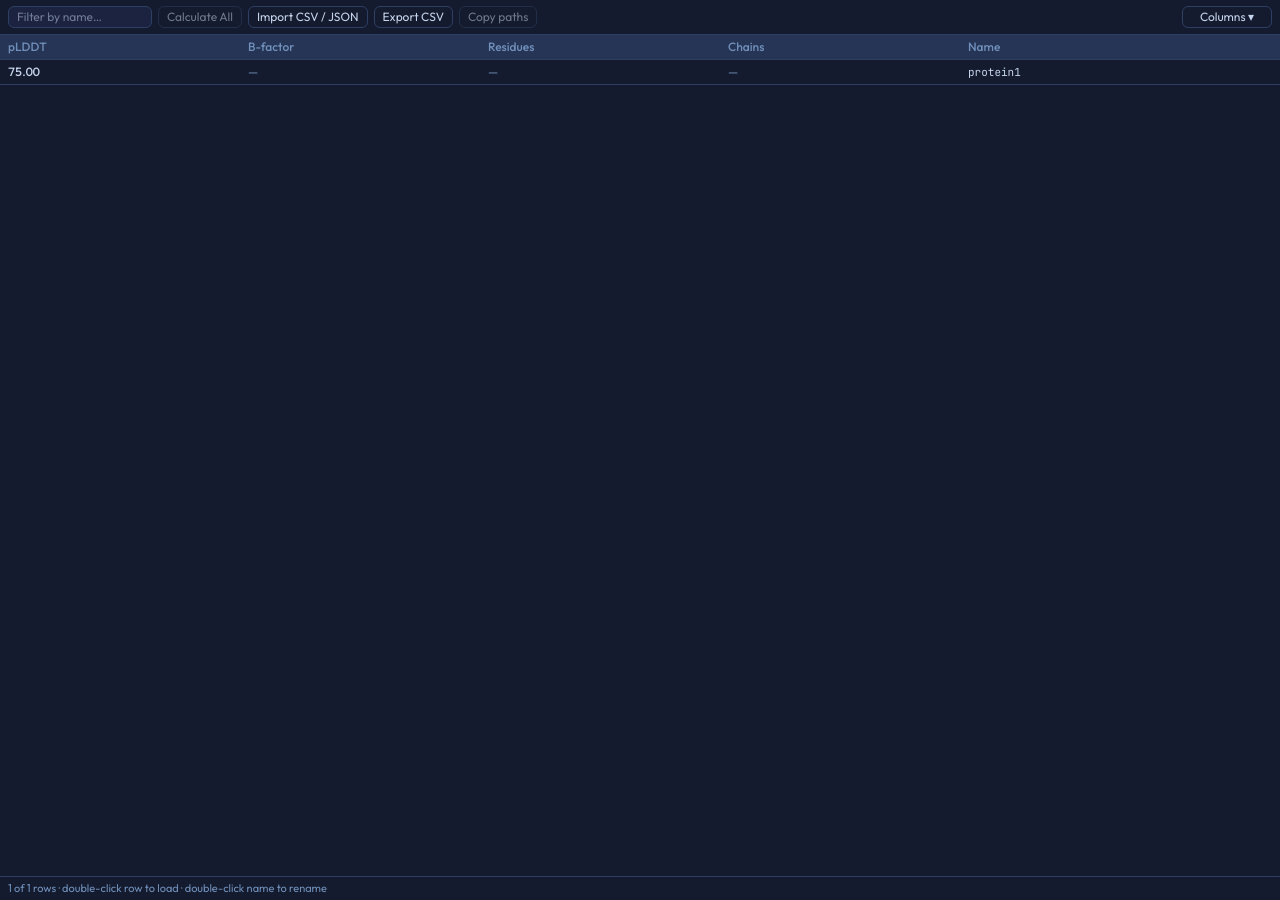
Scenario: MetricsTable › column visibility › opens the columns dropdown on click
Click the button "Columns ▾".
click(1227, 17)  # box [1182, 6, 1272, 28]
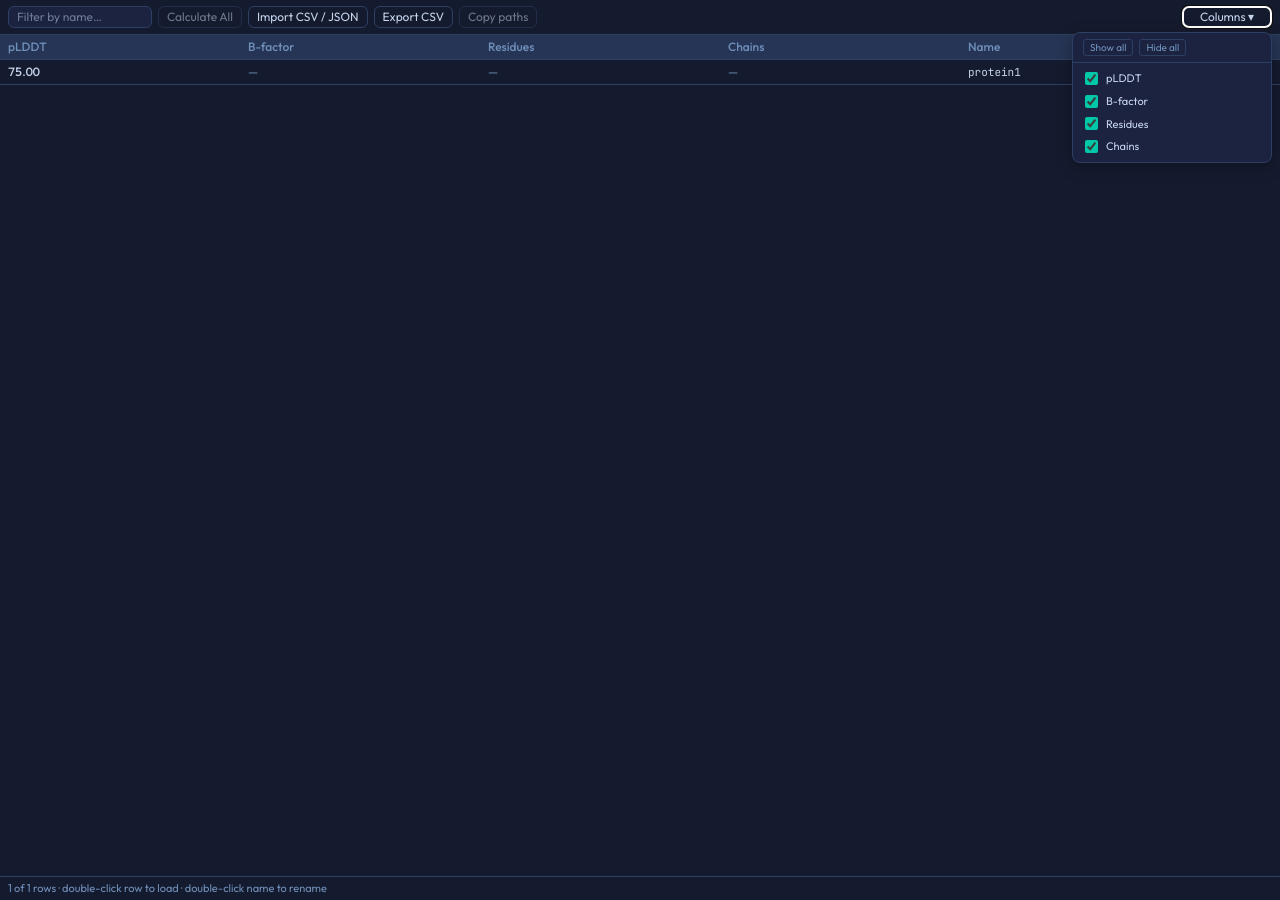
Expected: the 2nd text "pLDDT" is shown, [1106, 71, 1142, 86]
